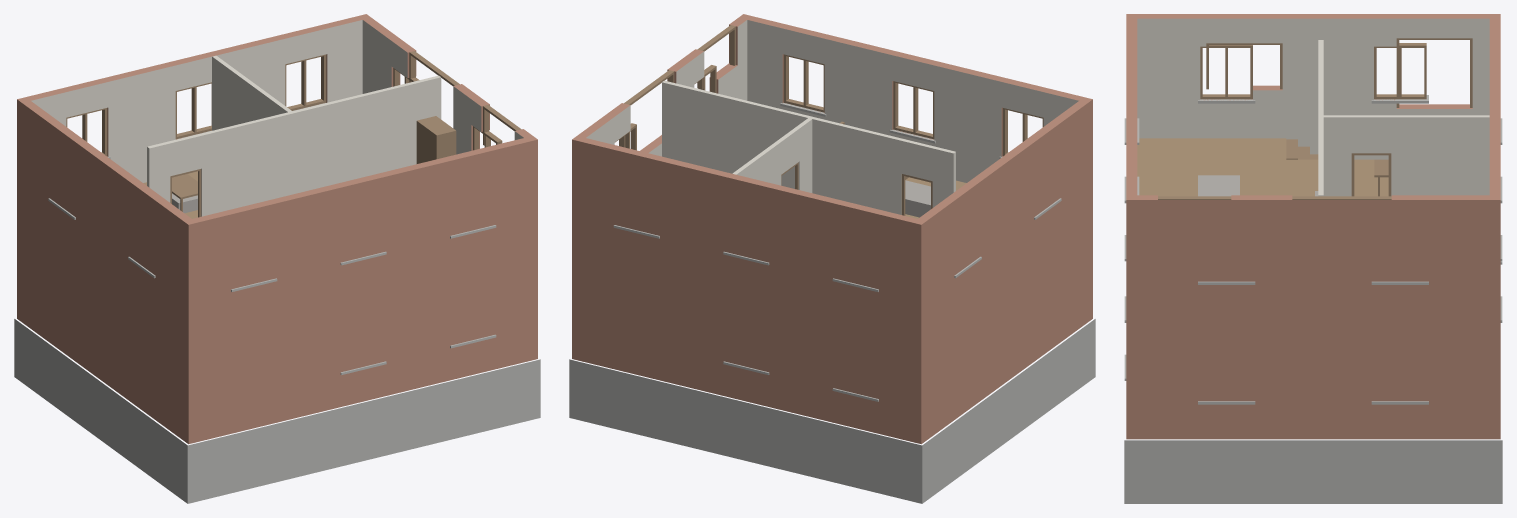
The model's file is ruin.glb.
3 renders of one model, left to right at view 1: azimuth 30°, elevation 25°; view 2: azimuth 150°, elevation 25°; view 3: azimuth 270°, elevation 25°, orthographic. The views are drawn at different scales.
Parts seen in each view (by area): view 1: hi, far; view 2: hi, far; view 3: hi, far.
Part boxes in pixels (x1,y1,x2,y2): hi: [14, 14, 540, 503]; far: [17, 102, 537, 443]; hi: [569, 14, 1095, 503]; far: [572, 104, 1092, 443]; hi: [1124, 14, 1502, 503]; far: [1126, 200, 1500, 439].
Bounding box in the file's own units: 10.1 × 7.6 × 8.6.
